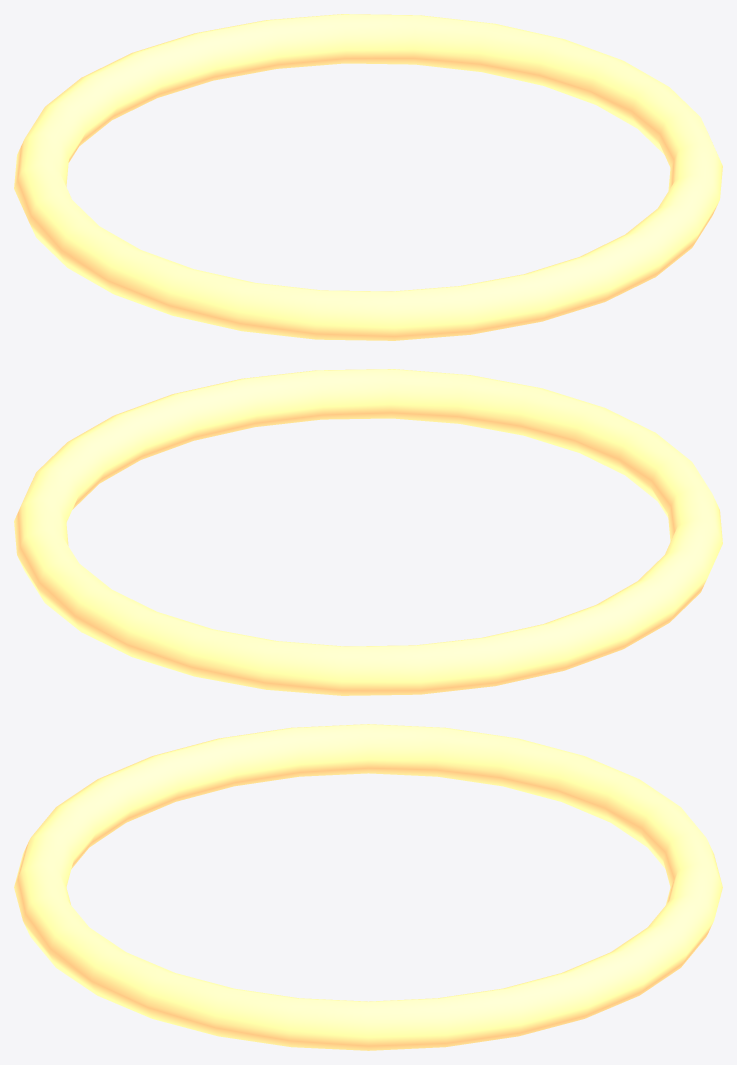
The model's file is VFX_Boss_Ring.fbx.
3 renders of one model, top to bottom at view 1: azimuth 30°, elevation 25°; view 2: azimuth 150°, elevation 25°; view 3: azimuth 270°, elevation 25°, orthographic.
Parts seen in each view (by area): view 1: VFX_Boss_Ring; view 2: VFX_Boss_Ring; view 3: VFX_Boss_Ring.
Part boxes in pixels (box(x1,y1,x2,y2)): VFX_Boss_Ring: box(14, 14, 722, 340); VFX_Boss_Ring: box(14, 369, 722, 695); VFX_Boss_Ring: box(14, 724, 722, 1050).
Size of the model in its own units: 2.16 by 0.16 by 2.16.
